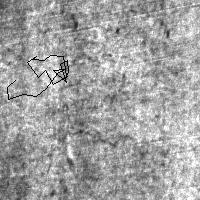crazing: (58, 12, 130, 149), (7, 55, 68, 99)
